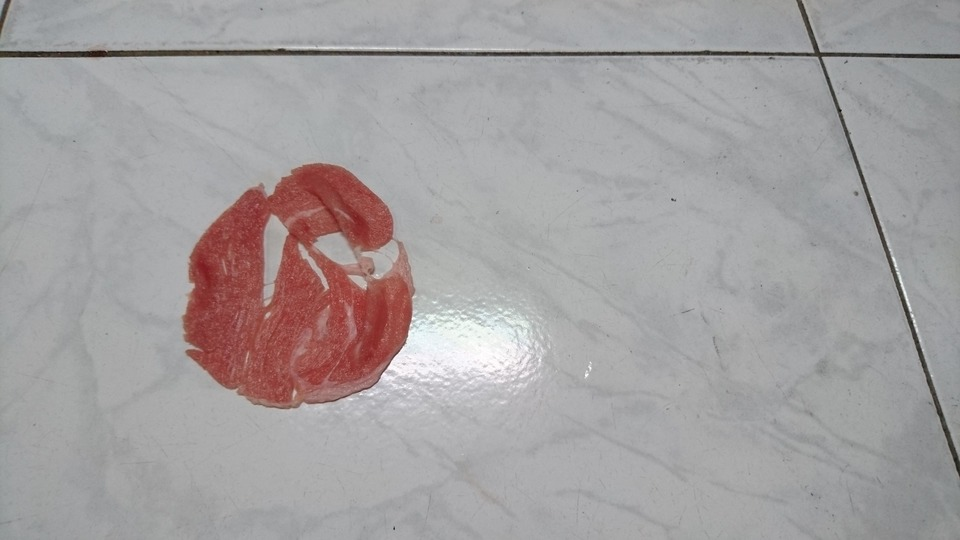restructured meat: (170, 163, 420, 406)
